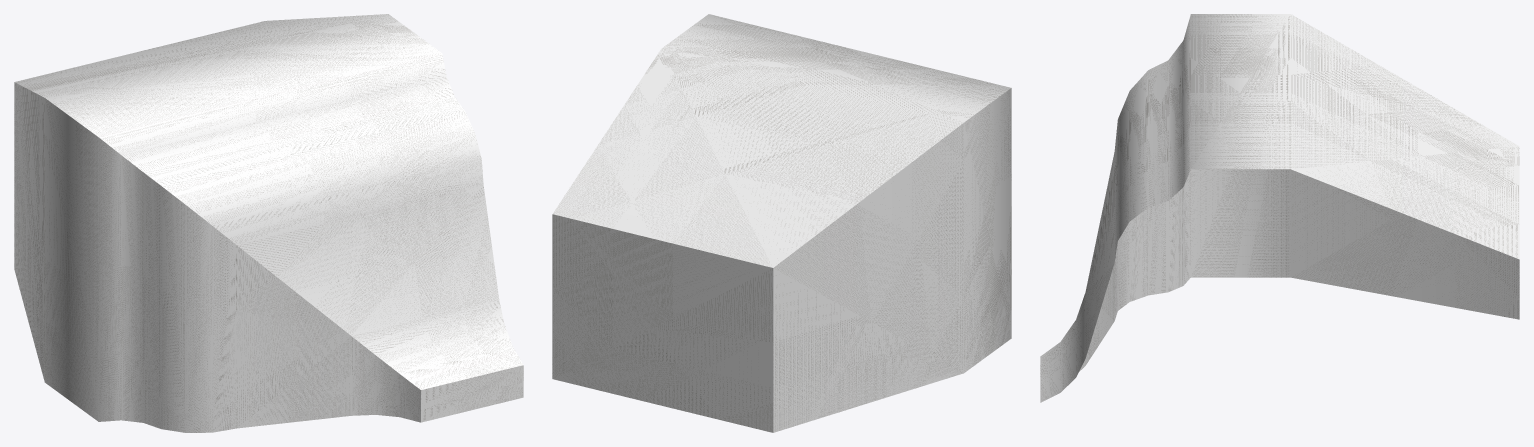
File: original-25.obj
The picture shows the model from 3 angles, left to right: view 1: azimuth 30°, elevation 25°; view 2: azimuth 150°, elevation 25°; view 3: azimuth 270°, elevation 25°; orthographic projection. The views are drawn at different scales.
Visible parts, largest first — view 1: DF_12_TL1/DF_12_TL/mesh18/mesh18-geometry#mesh18-geometry; view 2: DF_12_TL1/DF_12_TL/mesh18/mesh18-geometry#mesh18-geometry; view 3: DF_12_TL1/DF_12_TL/mesh18/mesh18-geometry#mesh18-geometry.
Boxes of the visible parts, <box> form: DF_12_TL1/DF_12_TL/mesh18/mesh18-geometry#mesh18-geometry: <box>14,14,523,432</box>; DF_12_TL1/DF_12_TL/mesh18/mesh18-geometry#mesh18-geometry: <box>552,14,1011,432</box>; DF_12_TL1/DF_12_TL/mesh18/mesh18-geometry#mesh18-geometry: <box>1040,14,1519,402</box>.
Size of the model in its own units: 0.0218 by 0.0172 by 0.0284.
